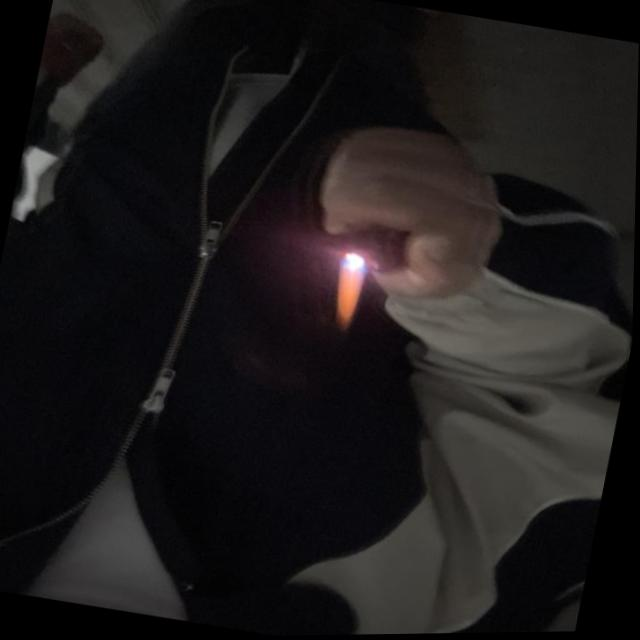Fire: (329, 254, 367, 331)
